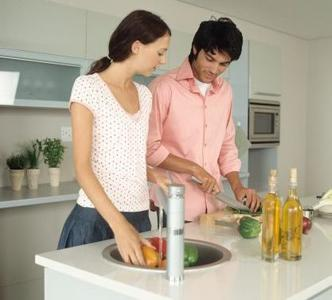person: (148, 18, 263, 231)
